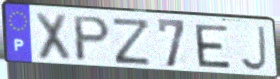7: (155, 17, 187, 70)
E: (192, 23, 233, 71)
J: (238, 25, 268, 73)
P: (72, 15, 113, 64)
X: (33, 11, 73, 64)
Z: (111, 16, 153, 67)
